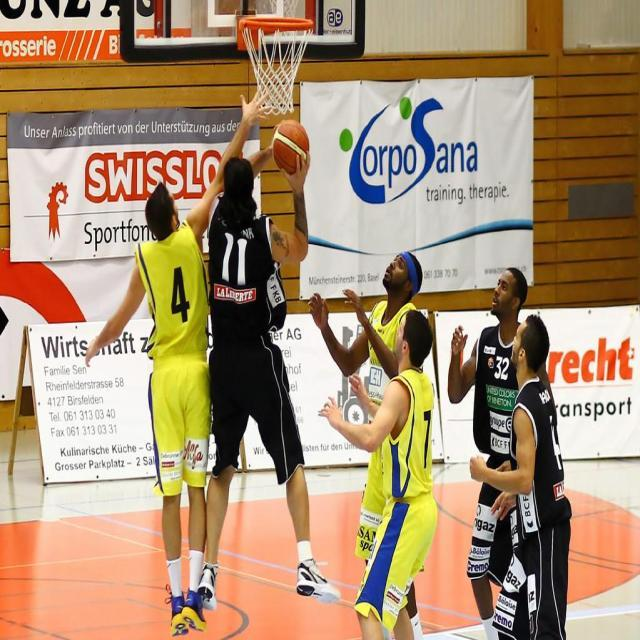rim: (272, 121, 308, 174)
